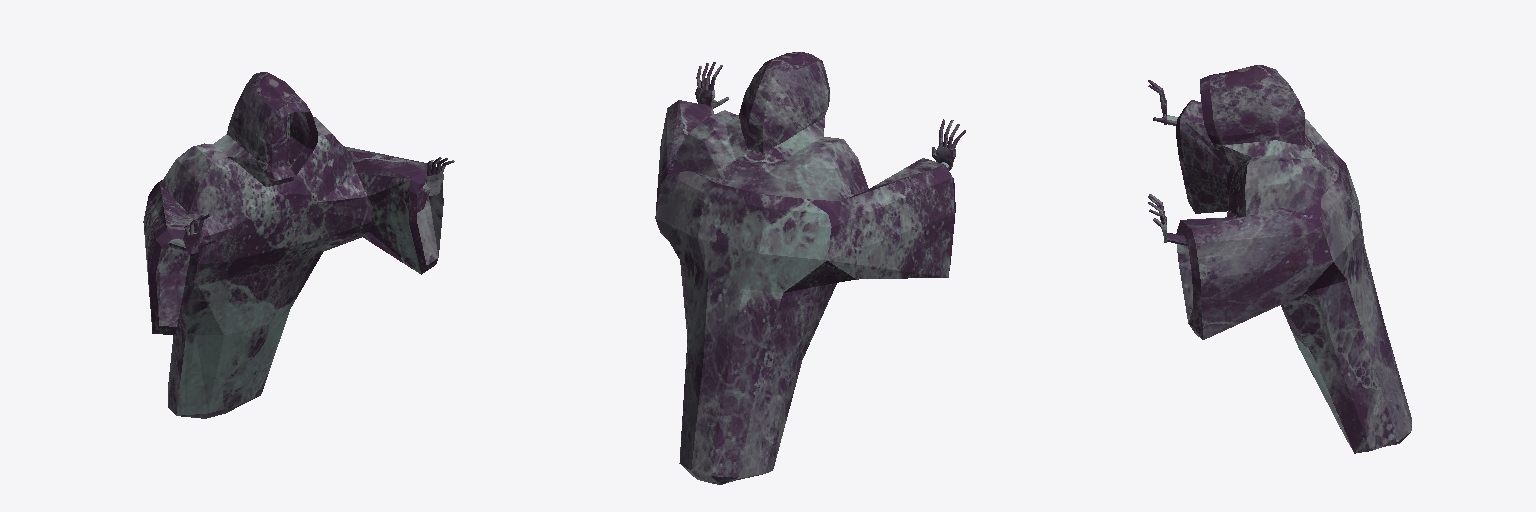
3 renders of one model, left to right at view 1: azimuth 30°, elevation 25°; view 2: azimuth 150°, elevation 25°; view 3: azimuth 270°, elevation 25°, orthographic.
Visible parts, largest first — view 1: Ghost; view 2: Ghost; view 3: Ghost.
Boxes of the visible parts, <box> form: Ghost: <box>143,72,454,418</box>; Ghost: <box>655,52,965,484</box>; Ghost: <box>1148,65,1411,453</box>.
Bounding box in the file's own units: 1.05 × 1.29 × 0.8211.
1 materials, 1 textured.